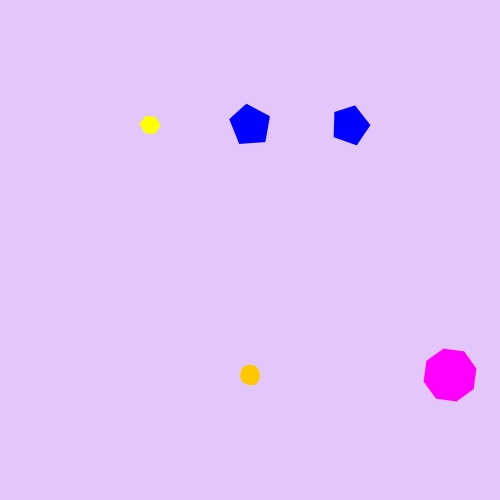hexagon: (135, 112, 165, 138)
nonagon: (235, 361, 265, 390)
octagon: (419, 344, 481, 406)
pentagon: (226, 101, 274, 149), (327, 102, 373, 148)
